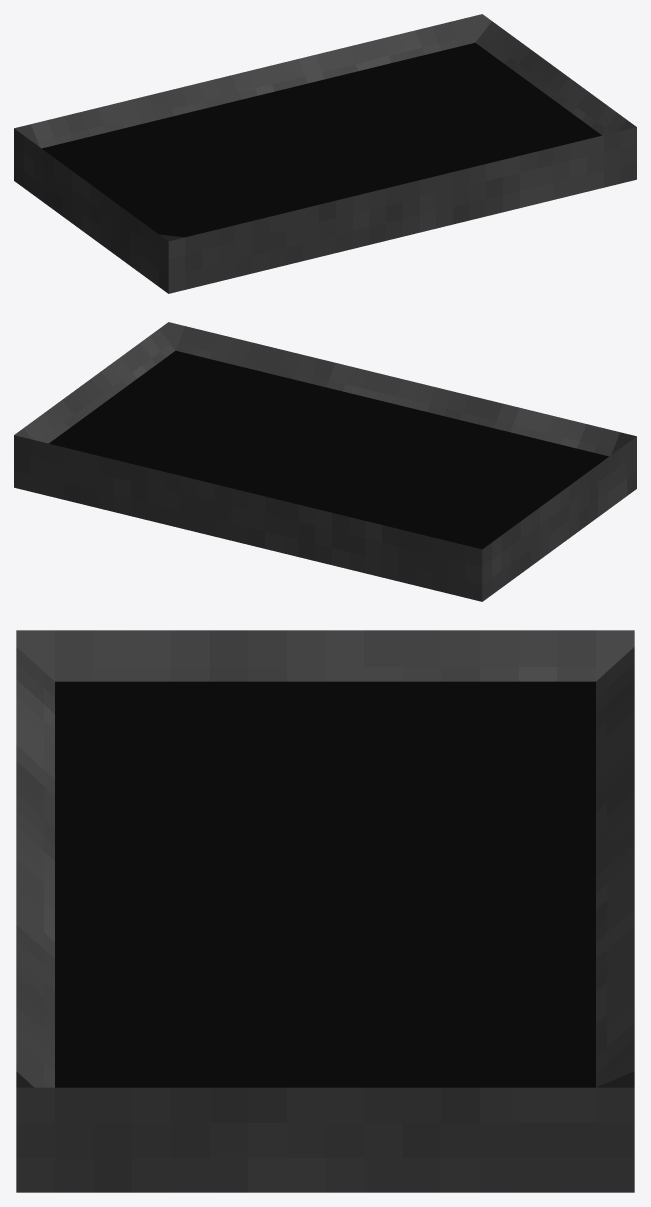
Rendered from panel_display.gltf.
3 views of the same model, one above another, from view 1: azimuth 30°, elevation 25°; view 2: azimuth 150°, elevation 25°; view 3: azimuth 270°, elevation 25° (orthographic). The views are drawn at different scales.
Parts seen in each view (by area): view 1: screen_display, screen_case; view 2: screen_display, screen_case; view 3: screen_display, screen_case.
Part boxes in pixels (x1,y1,x2,y2): screen_display: [42, 42, 601, 237]; screen_case: [14, 14, 636, 293]; screen_display: [49, 350, 608, 549]; screen_case: [14, 322, 636, 601]; screen_display: [55, 681, 595, 1087]; screen_case: [16, 630, 634, 1192].
Size of the model in its own units: 1.75 by 0.1875 by 1.
Materials: 2 (2 with a texture image).
